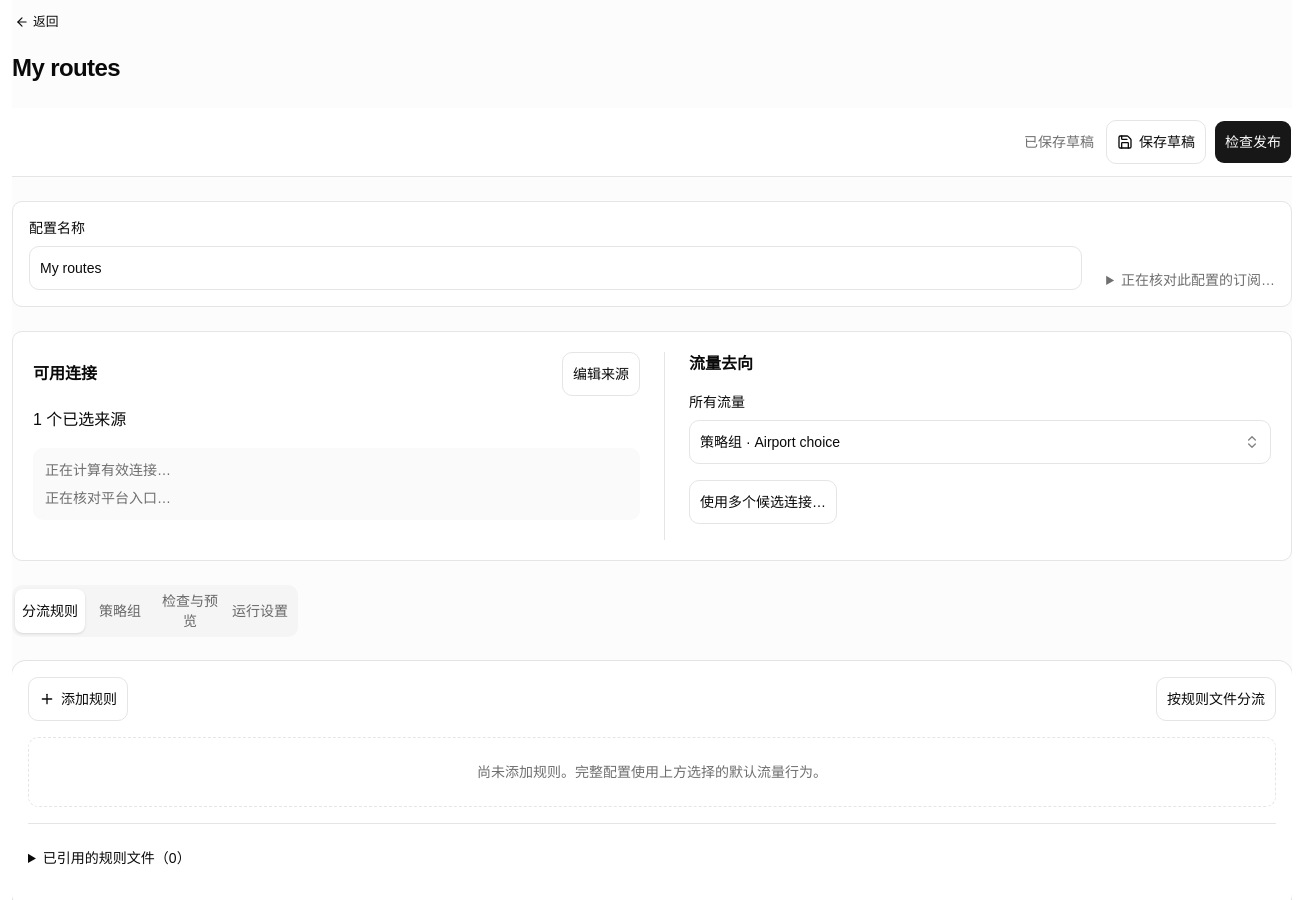
Test: keeps the real empty-group error when automatic membership is explicitly disabled
Press the mouse on the tab "策略组" at (120, 611), box [85,589,155,633]
(page scrolled)
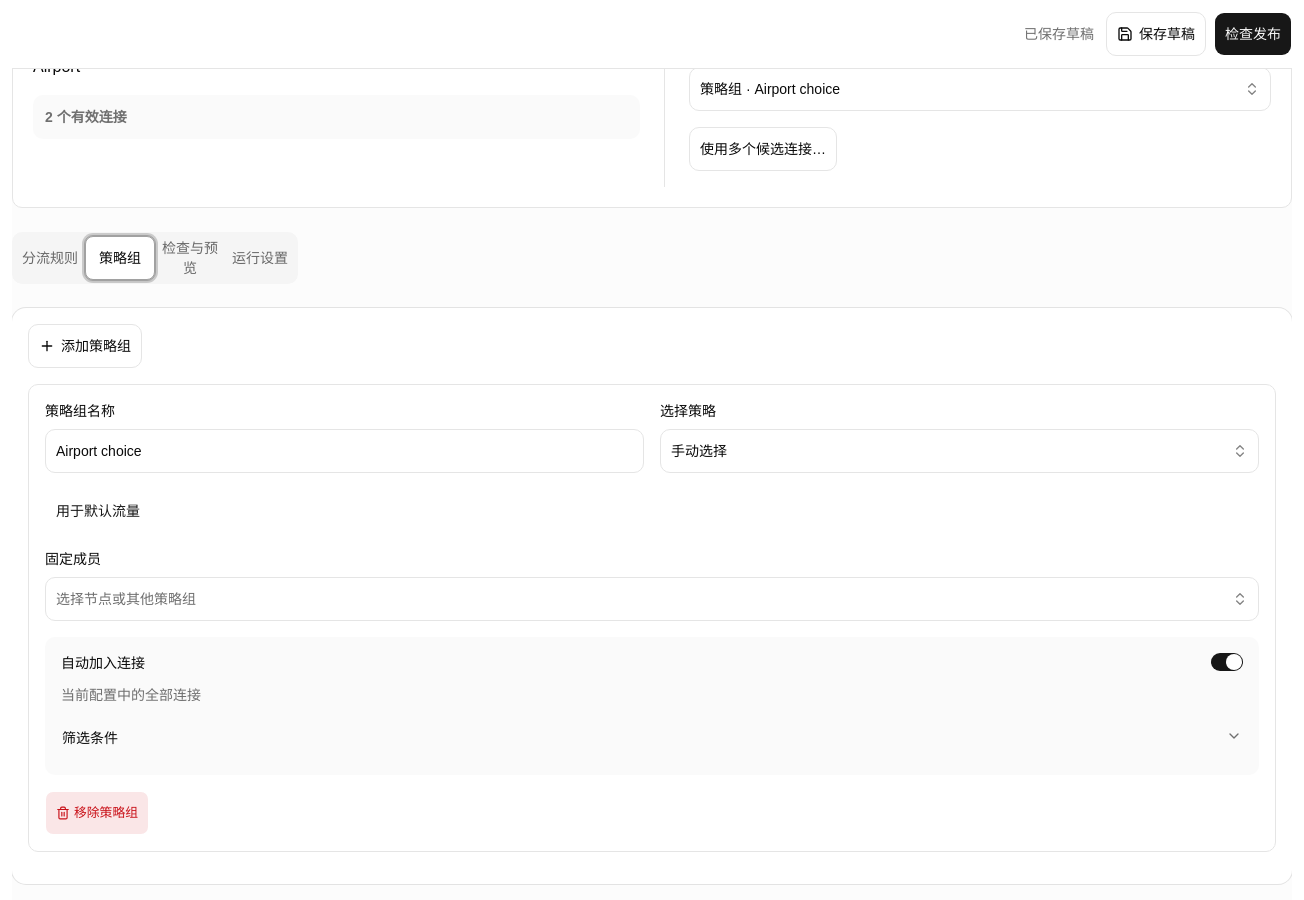
Expected: the text "请添加固定成员或开启自动加入连接" is not shown
Now the text "2 个有效连接" is shown, box [45,109,127,125]
Click the switch named "自动加入连接" at (1227, 662), box [1211,653,1243,671]
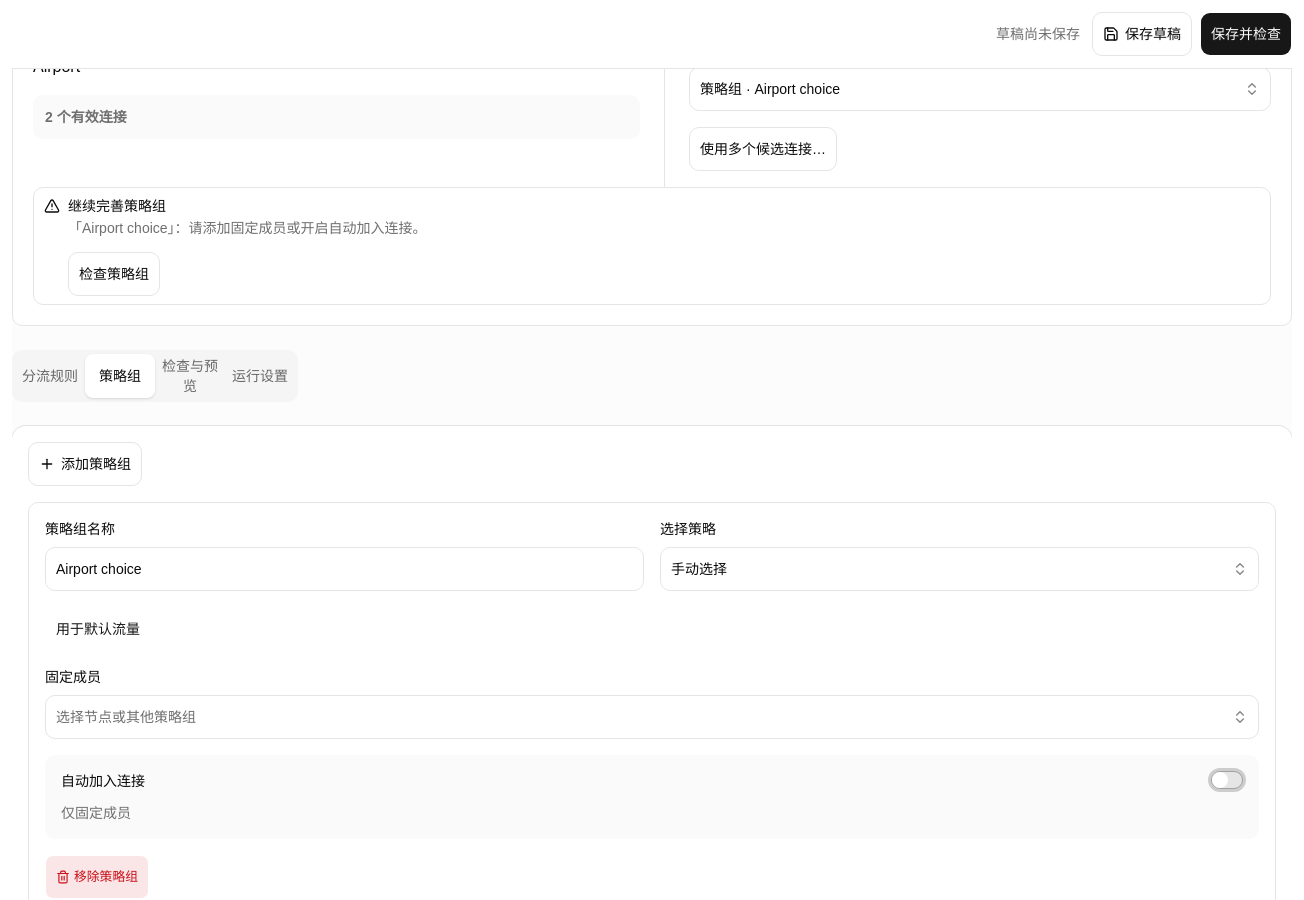
Now the text "「Airport choice」：请添加固定成员或开启自动加入连接。" is shown, box [68,220,427,236]
Now the text "仅固定成员" is shown, box [61,805,131,821]
